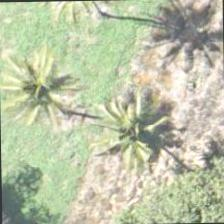Kelapa_Sawit: (82, 84, 174, 176), (0, 42, 83, 134)
